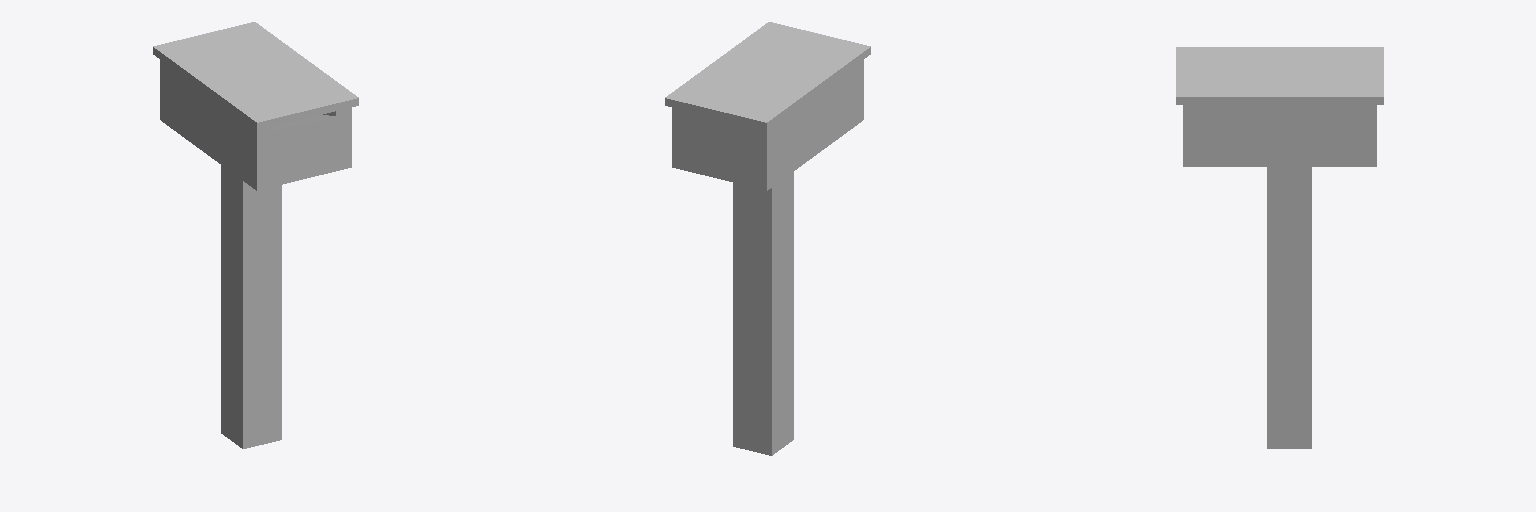
File: mailbox.obj
3 views of the same model, side by side, from view 1: azimuth 30°, elevation 25°; view 2: azimuth 150°, elevation 25°; view 3: azimuth 270°, elevation 25° (orthographic).
Parts seen in each view (by area): view 1: Cube_Cube.007; view 2: Cube_Cube.007; view 3: Cube_Cube.007.
Part boxes in pixels (x1,y1,x2,y2): Cube_Cube.007: (153,22,358,448); Cube_Cube.007: (665,22,870,455); Cube_Cube.007: (1176,47,1383,448).
Size of the model in its own units: 0.4178 by 1.44 by 0.7391.